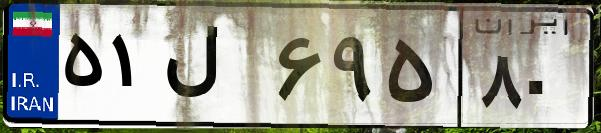0: (525, 38, 570, 115)
1: (110, 28, 158, 98)
5: (385, 28, 445, 110), (57, 26, 110, 100)
6: (270, 28, 330, 110)
8: (475, 38, 525, 113)
9: (330, 28, 385, 110)
ل: (158, 20, 270, 120)
